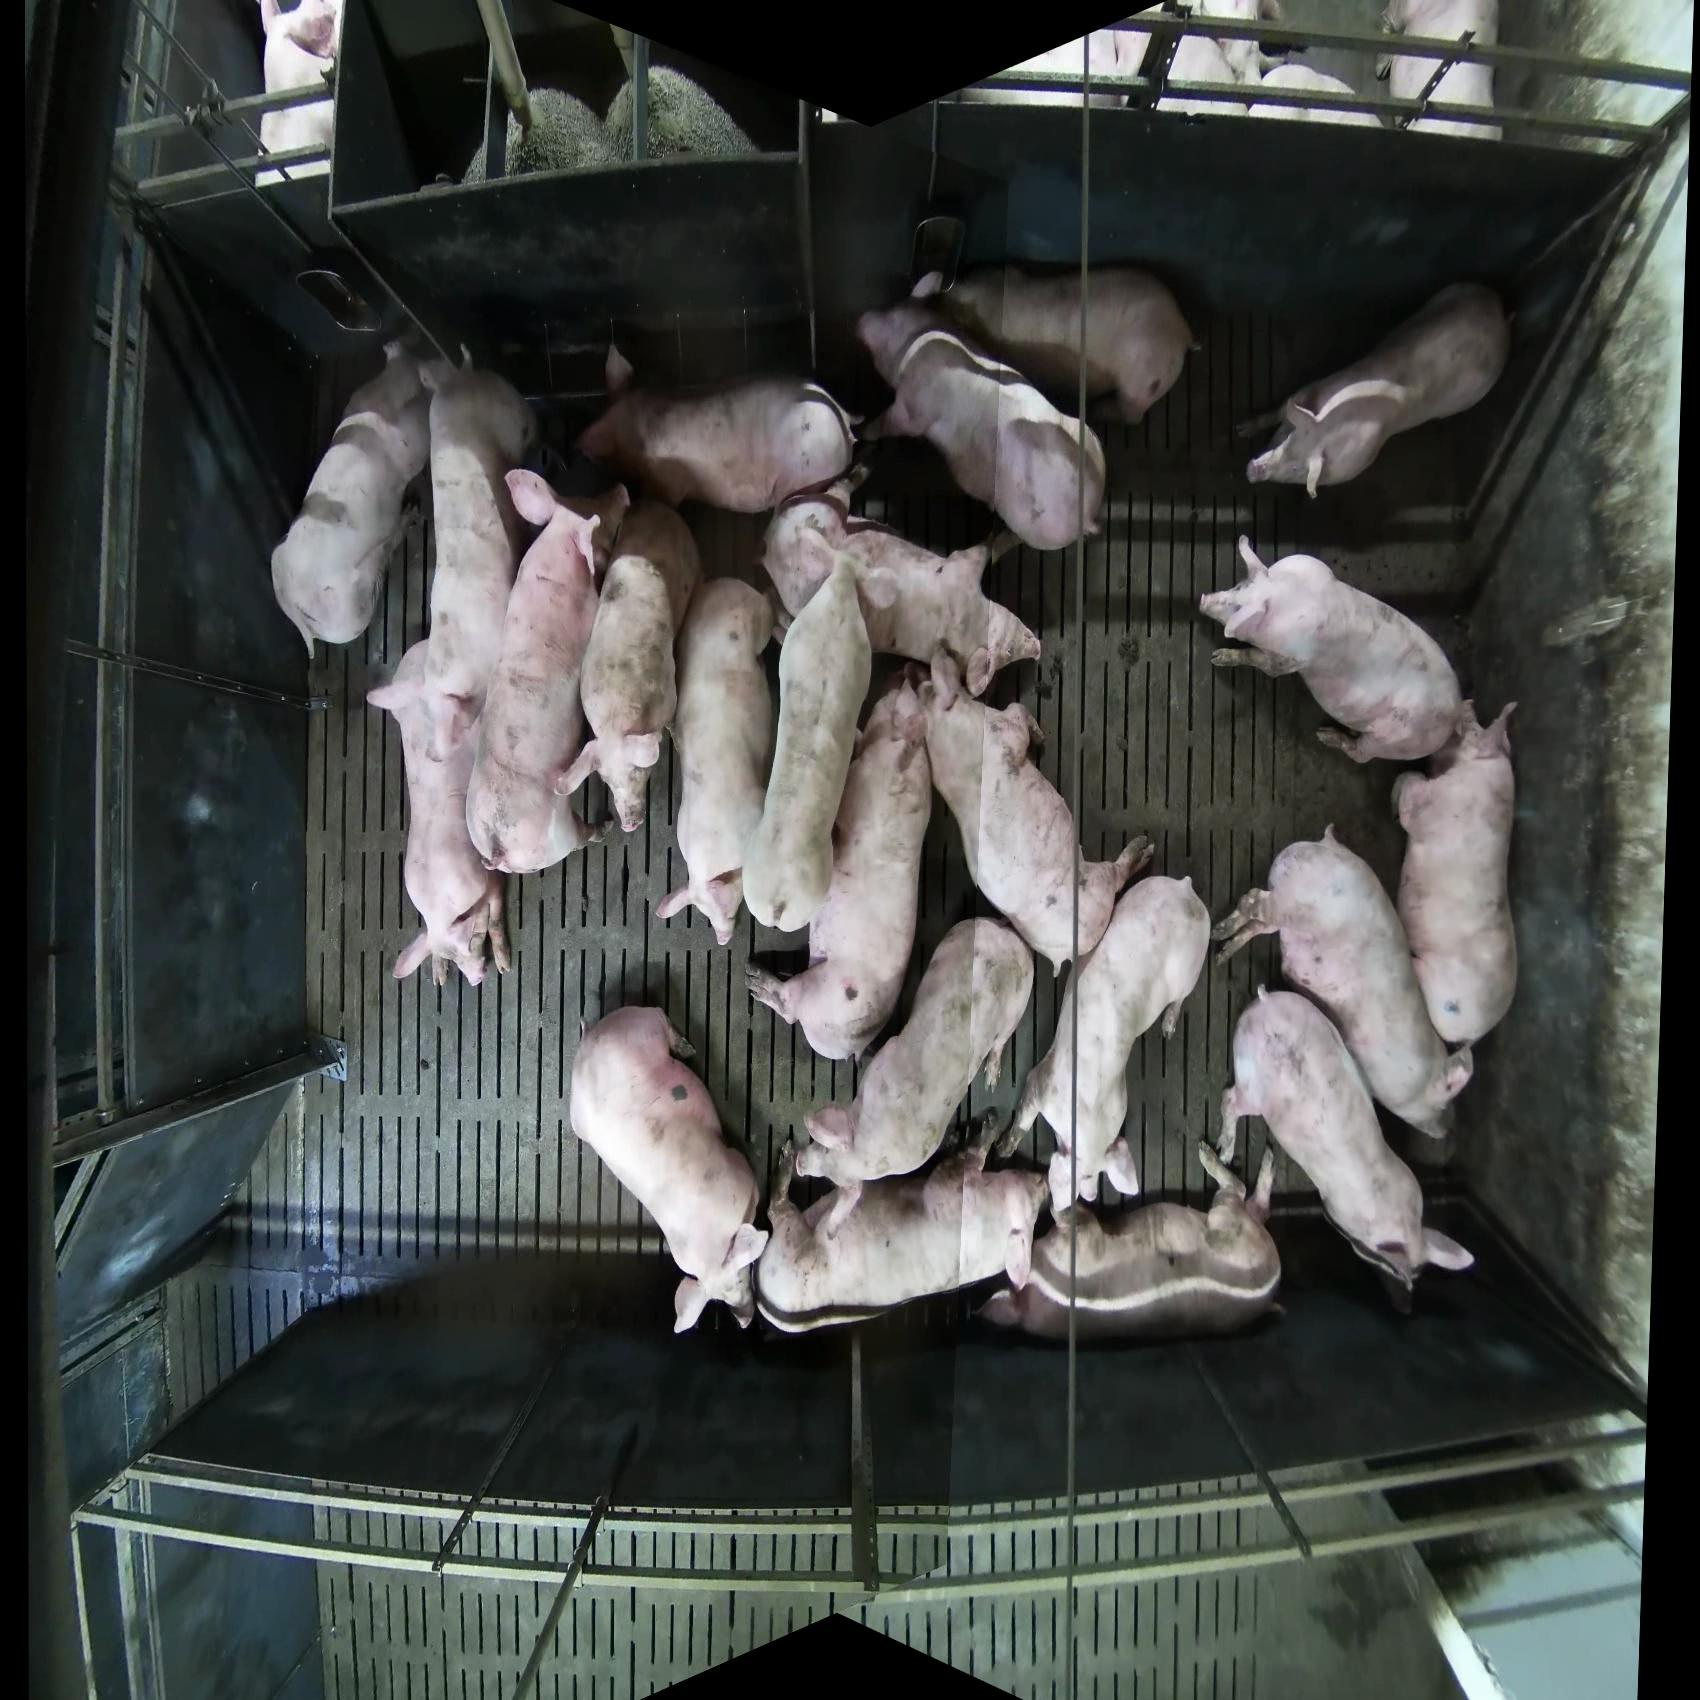pig: (366, 355, 542, 989), (1219, 982, 1476, 1315), (1213, 824, 1474, 1144), (743, 659, 936, 1063), (922, 645, 1155, 968), (993, 873, 1213, 1208), (462, 467, 630, 876), (567, 1004, 771, 1336), (757, 1110, 1051, 1336), (855, 294, 1108, 553), (796, 915, 1035, 1186), (1199, 534, 1468, 767), (981, 1140, 1284, 1342), (1239, 279, 1512, 501), (760, 490, 1045, 699), (739, 553, 876, 936), (269, 336, 431, 659), (366, 637, 514, 989), (557, 495, 704, 836), (576, 342, 858, 515), (917, 262, 1200, 427), (654, 576, 778, 947), (1392, 697, 1521, 1051), (1379, 2, 1501, 139), (257, 2, 342, 185)
